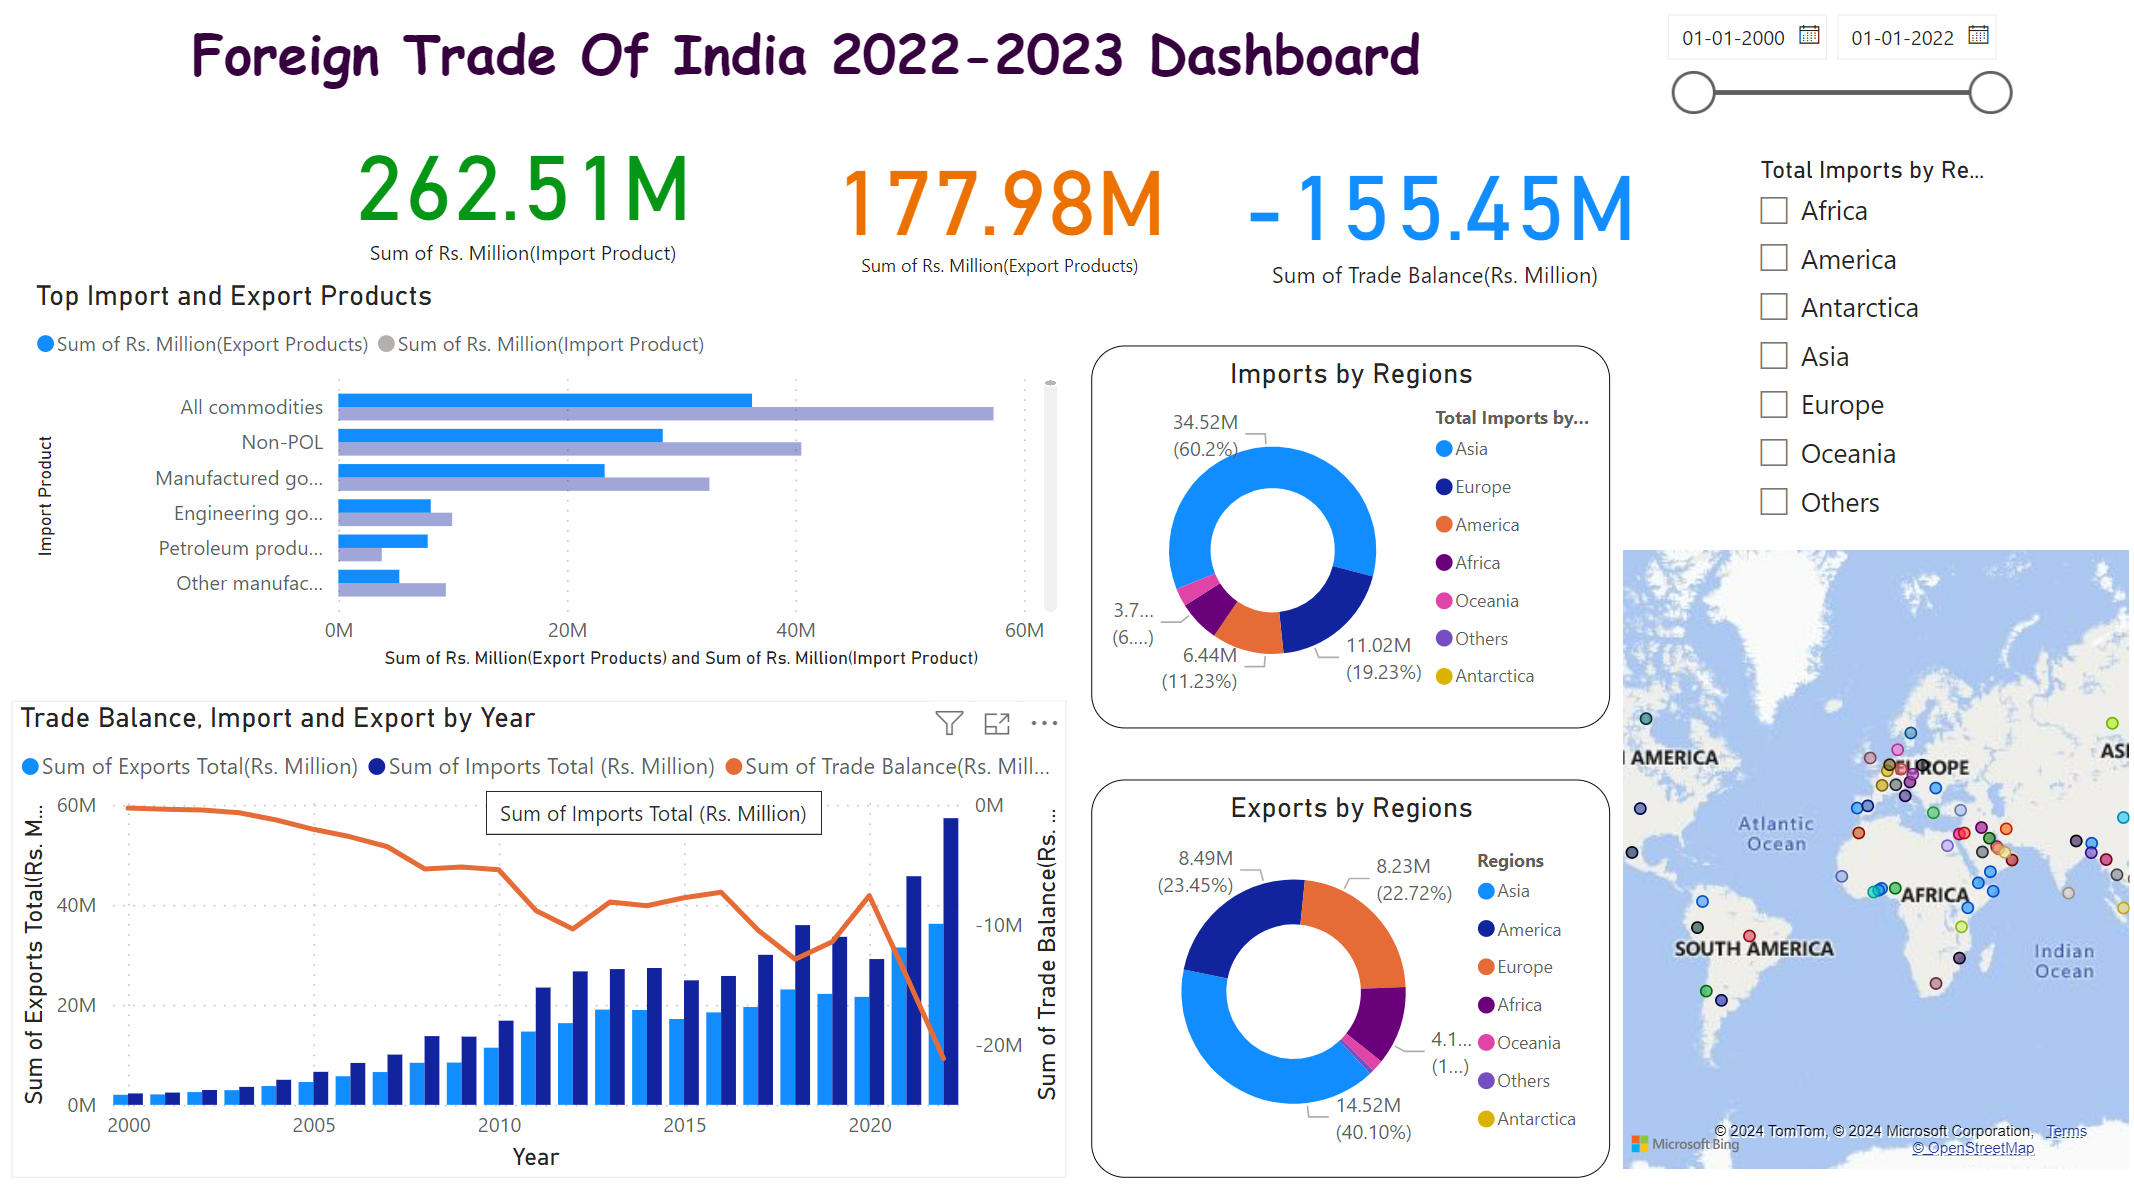

The page's visual inventory and layout, read from the dashboard file:
{"tool":"powerbi","page":{"name":"Dashboard","canvas":[1280,720],"ordinal":0},"visuals":[{"type":"textbox","box":[113.2,8.7,817.1,75.9],"z":0},{"type":"map","fields":{"Category":["Table5.Total Exports by Countries"],"Series":["Table2.Total Imports by Countries"]},"box":[967.6,328.4,312.2,379.3],"z":1000},{"type":"lineClusteredColumnComboChart","title":"Trade Balance, Import and Export by Year","fields":{"Category":["Table7.Year .Variation.Date Hierarchy.Year"],"Y":["Sum(Table7.Exports Total(Rs. Million))","Sum(Table7.Imports Total (Rs. Million))"],"Y2":["Sum(Table7.Trade Balance(Rs. Million) )"]},"box":[10,422.9,630.6,284.8],"z":2000},{"type":"donutChart","title":"Exports by Regions","fields":{"Category":["Table4.Total Exports by Regions"],"Y":["Sum(Table4.Rs. Million(Total Exports by Regions))"]},"box":[655.5,470.1,309.7,237.6],"z":3000},{"type":"donutChart","title":"Imports by Regions","fields":{"Y":["Sum(Table1.Rs. Million(Total Imports by Regions))"],"Category":["Table1.Total Imports by Regions"]},"box":[655.5,211.4,309.7,228.9],"z":4000},{"type":"slicer","fields":{"Values":["Table1.Total Imports by Regions"]},"box":[1041,92,171.6,233.8],"z":5000},{"type":"slicer","fields":{"Values":["Table7.Year "]},"box":[986,3.5,226.7,72.1],"z":6000},{"type":"clusteredBarChart","title":"Top Import and Export Products","fields":{"Category":["Table3.Import Product","Table6.Export Products"],"Y":["Sum(Table6.Rs. Million(Export Products))","Sum(Table3.Rs. Million(Import Product))"]},"box":[19.8,170.9,619.8,237.2],"z":7000},{"type":"card","fields":{"Values":["Sum(Table3.Rs. Million(Import Product))"]},"box":[200.2,62.2,230.1,110.7],"z":8000},{"type":"card","fields":{"Values":["Sum(Table6.Rs. Million(Export Products))"]},"box":[495,73.4,210.2,105.7],"z":9000},{"type":"card","fields":{"Values":["Sum(Table7.Trade Balance(Rs. Million) )"]},"box":[737.5,75.9,248.8,109.5],"z":10000}]}

Visuals, with their boxes in screenshot pixels (x1, y1, x2, y2), scaled from the page's 1280x720 canvas onto the 2134x1193 screenshot:
textbox: BBox(189, 14, 1551, 140)
map - Table5.Total Exports by Countries x Table2.Total Imports by Countries: BBox(1613, 544, 2133, 1173)
"Trade Balance, Import and Export by Year" lineClusteredColumnComboChart: BBox(17, 701, 1068, 1173)
"Exports by Regions" donutChart: BBox(1093, 779, 1609, 1173)
"Imports by Regions" donutChart: BBox(1093, 350, 1609, 730)
slicer - Table1.Total Imports by Regions: BBox(1736, 152, 2022, 540)
slicer - Table7.Year : BBox(1644, 6, 2022, 125)
"Top Import and Export Products" clusteredBarChart: BBox(33, 283, 1066, 676)
card - Sum(Table3.Rs. Million(Import Product)): BBox(334, 103, 717, 286)
card - Sum(Table6.Rs. Million(Export Products)): BBox(825, 122, 1176, 297)
card - Sum(Table7.Trade Balance(Rs. Million) ): BBox(1230, 126, 1644, 307)
